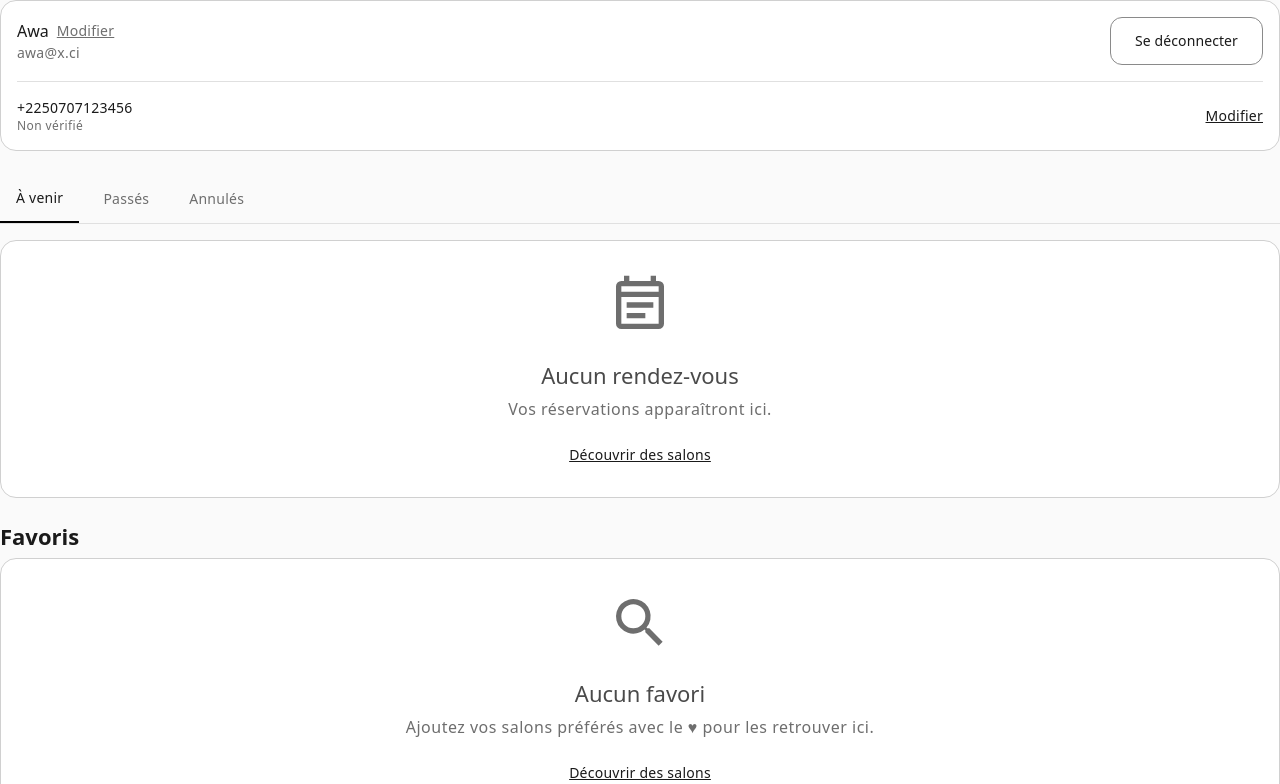
Test: Mon compte — « Se déconnecter » (the session is httpOnly cookies only the BFF can clear) › the BFF refused (500): stays, the generic sentence
What coordinates should you click on to do the following:
click the button "Se déconnecter"
I would click on:
 (1186, 41)
Its box is [1110,17,1263,65].
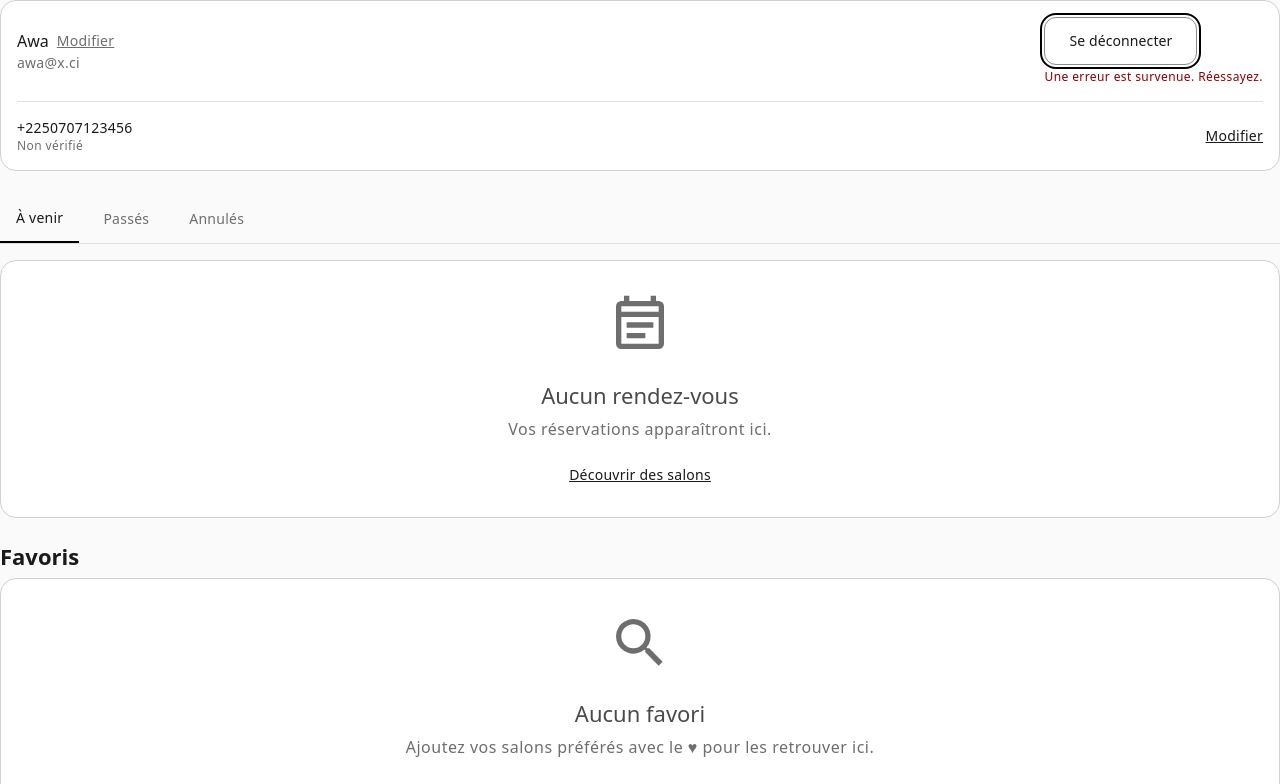
Expected: the message reads "Une erreur est survenue. Réessayez.", [1044,68,1263,85]
